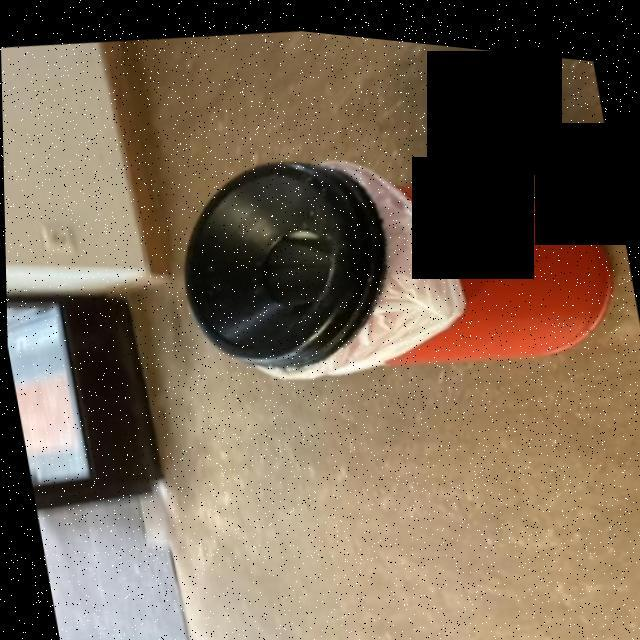bin: (107, 73, 640, 445)
